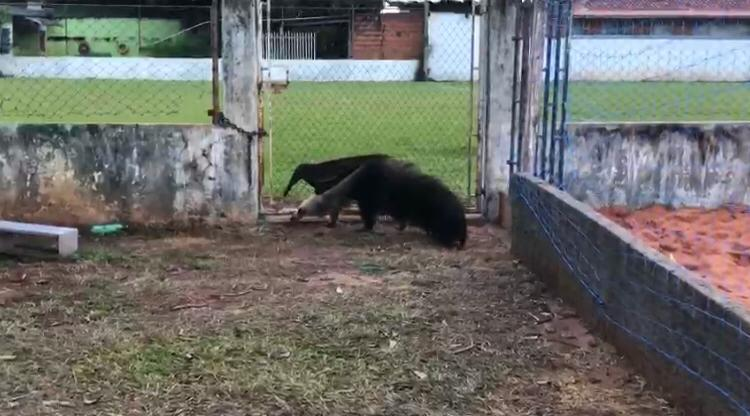TamanduaBandeira: (273, 151, 471, 254)
